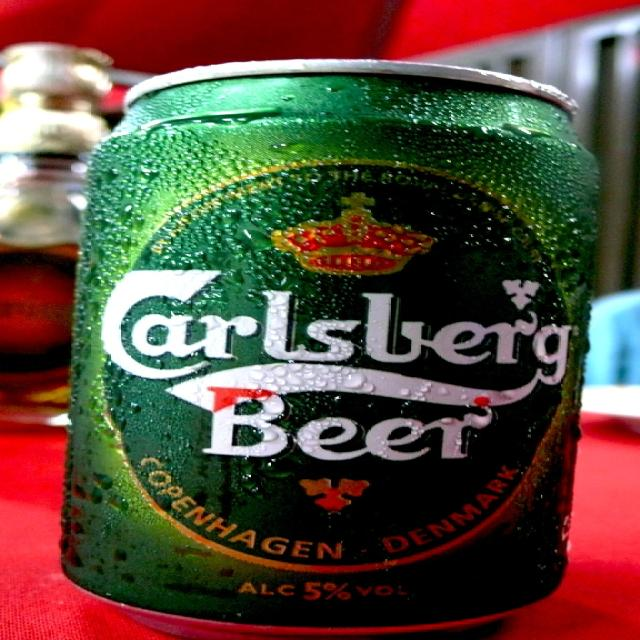carlsberg: (99, 163, 571, 576)
